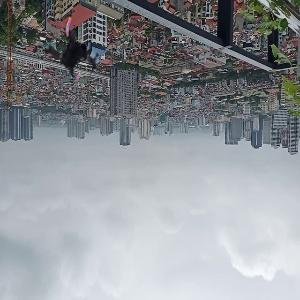drone: (37, 6, 118, 87)
